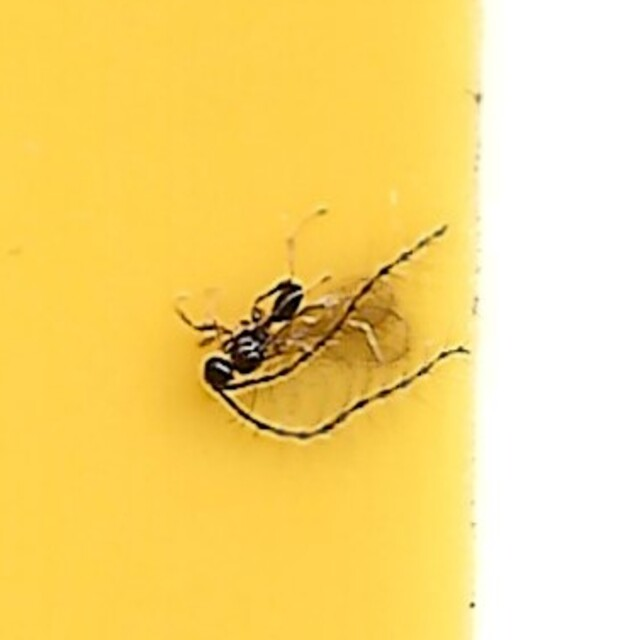Hymenoptera: (170, 199, 470, 441)
